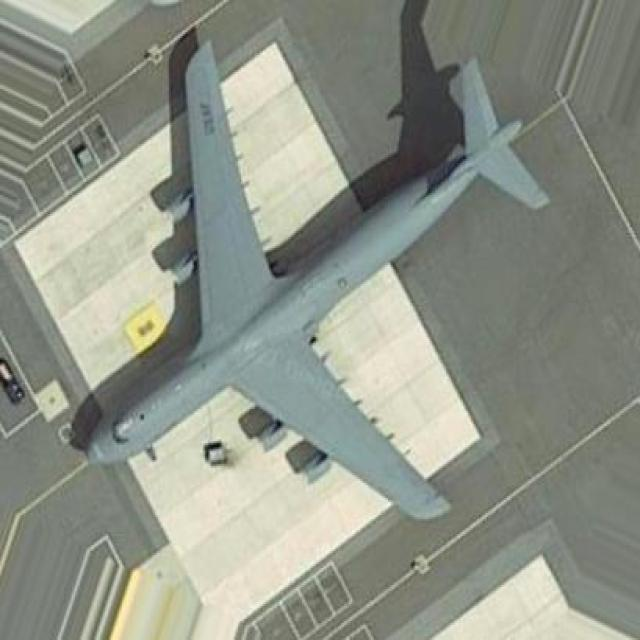C-5_TopDown: (68, 0, 556, 540)
